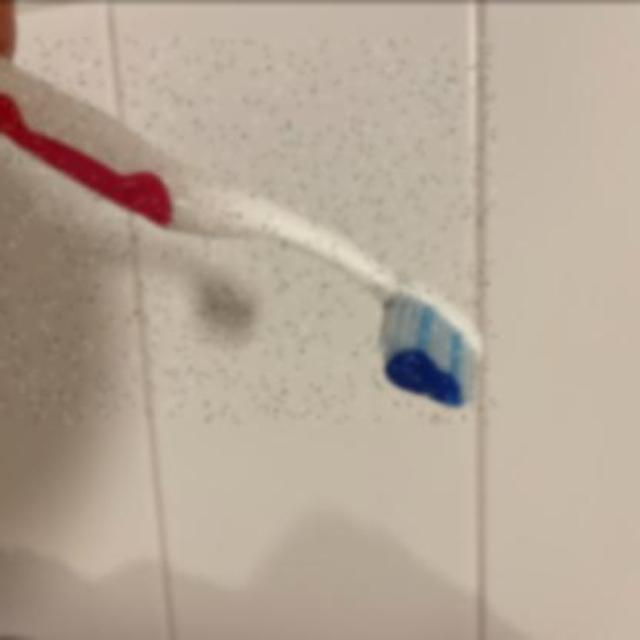toothbrush: (1, 37, 496, 423)
